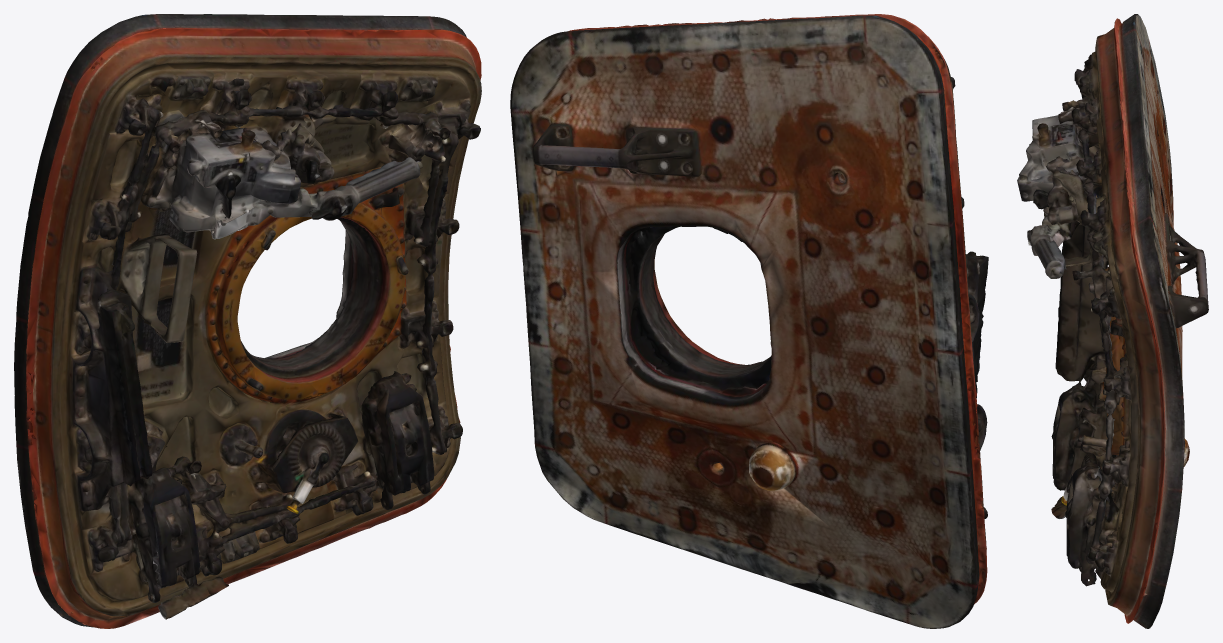
File: apollo-hatch.glb
3 renders of one model, left to right at view 1: azimuth 30°, elevation 25°; view 2: azimuth 150°, elevation 25°; view 3: azimuth 270°, elevation 25°, orthographic. The views are drawn at different scales.
Size of the model in its own units: 0.8243 by 1.04 by 0.3453.
Materials: 1 (1 with a texture image).
